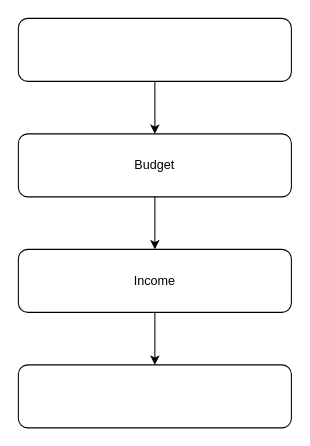
Image size: 310x446. Some labels were removed from this diagram. The centre of each missing label's shape, as x and y in pixels:
"Expense" goes at (154,49).
"Reports" goes at (154,396).
